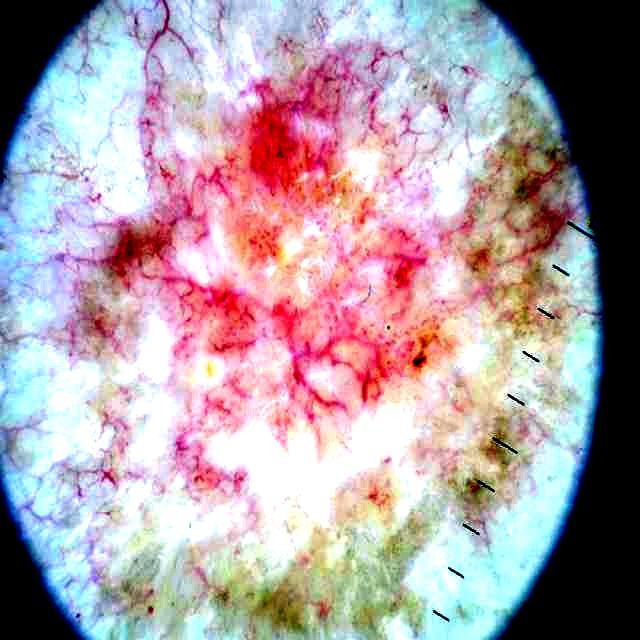AKIEC: (99, 27, 492, 508)
